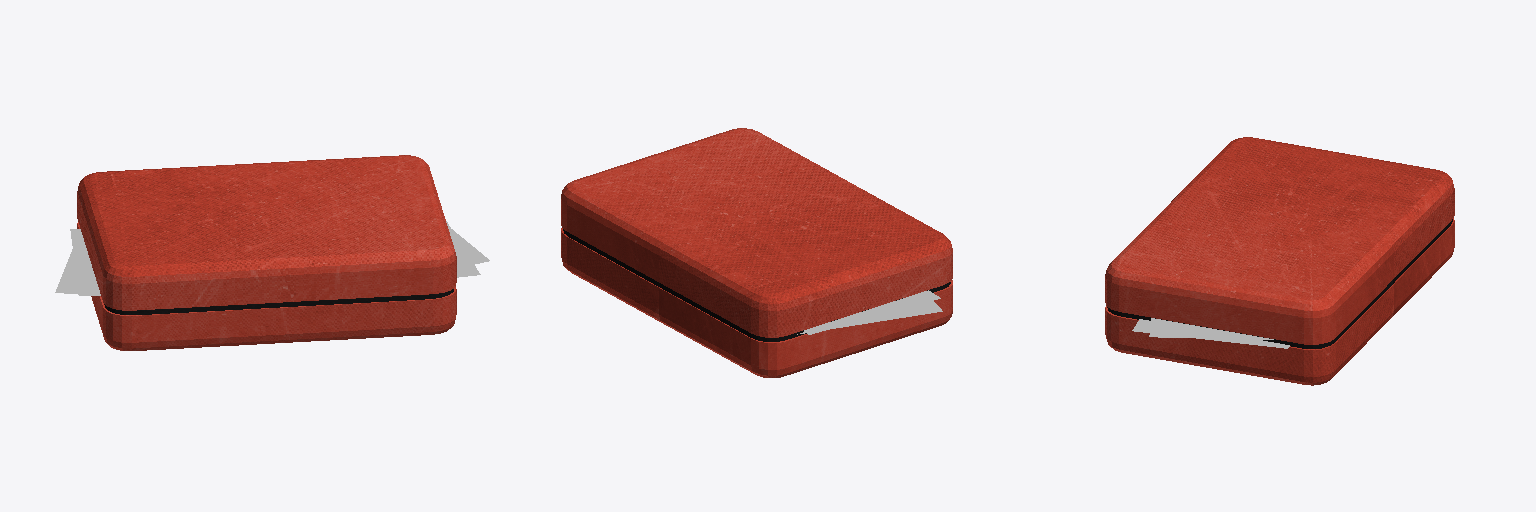
3 renders of one model, left to right at view 1: azimuth 30°, elevation 25°; view 2: azimuth 150°, elevation 25°; view 3: azimuth 270°, elevation 25°, orthographic.
Parts seen in each view (by area): view 1: Maletin; view 2: Maletin; view 3: Maletin.
Boxes of the visible parts, x1,y1,x2,y2 form: Maletin: [55, 155, 489, 350]; Maletin: [561, 128, 952, 377]; Maletin: [1105, 137, 1454, 385].
Size of the model in its own units: 0.785 by 0.1681 by 0.6314.
Materials: 3 (2 with a texture image).